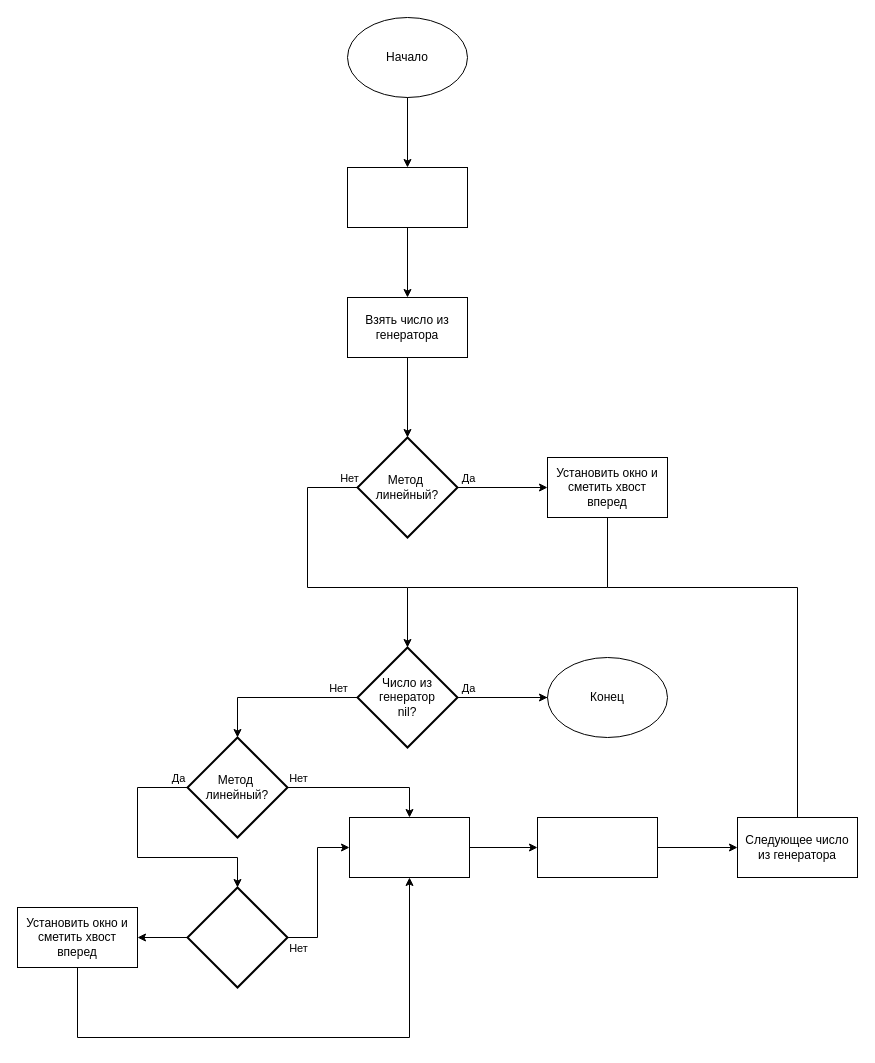
Some shapes in this 875 by 1063 pixel diagram are drawn without their labels. The shapes that lost their labels are listed below. From the top down, each one's box as (x1, y1, x2, y2) in pixels, then its label:
(346, 166, 468, 228): Получить из файла массив точек
(348, 816, 470, 878): Вызов функции интерполяции
(536, 816, 658, 878): Печать результата
(186, 886, 288, 988): Число из генератора больше чем вторая точка?
